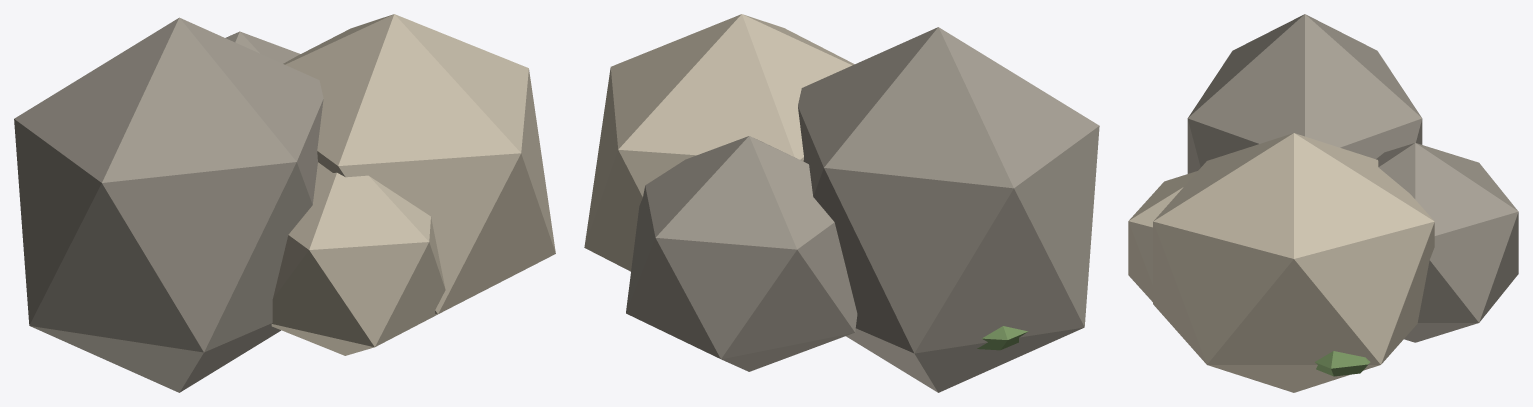
The model's file is rock_cluster.glb.
3 renders of one model, left to right at view 1: azimuth 30°, elevation 25°; view 2: azimuth 150°, elevation 25°; view 3: azimuth 270°, elevation 25°, orthographic. The views are drawn at different scales.
Parts seen in each view (by area): view 1: RockCluster_Geometry; view 2: RockCluster_Geometry; view 3: RockCluster_Geometry.
Boxes of the visible parts, x1,y1,x2,y2 form: RockCluster_Geometry: (14,14,555,392); RockCluster_Geometry: (584,14,1099,392); RockCluster_Geometry: (1128,14,1518,392).
Bounding box in the file's own units: 1.7 × 1.24 × 1.41.
